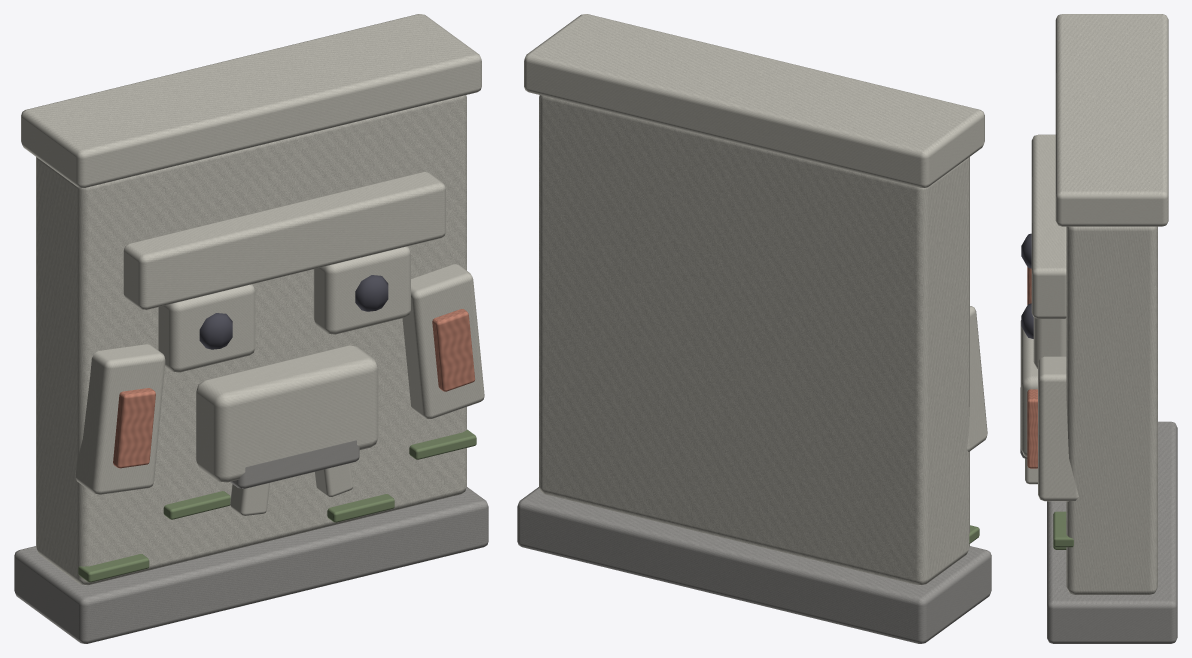
File: jungle-temple-and-stone-city-stone-mask-panel-d63ddb96__36128.glb
3 renders of one model, left to right at view 1: azimuth 30°, elevation 25°; view 2: azimuth 150°, elevation 25°; view 3: azimuth 270°, elevation 25°, orthographic. The views are drawn at different scales.
Visible parts, largest first — view 1: stone-mask-panel; view 2: stone-mask-panel; view 3: stone-mask-panel.
Part boxes in pixels (x1,y1,x2,y2): stone-mask-panel: [14, 14, 488, 643]; stone-mask-panel: [517, 14, 991, 643]; stone-mask-panel: [1020, 14, 1177, 643].
Bounding box in the file's own units: 2 × 2.29 × 0.7213.
5 materials, 4 textured.
